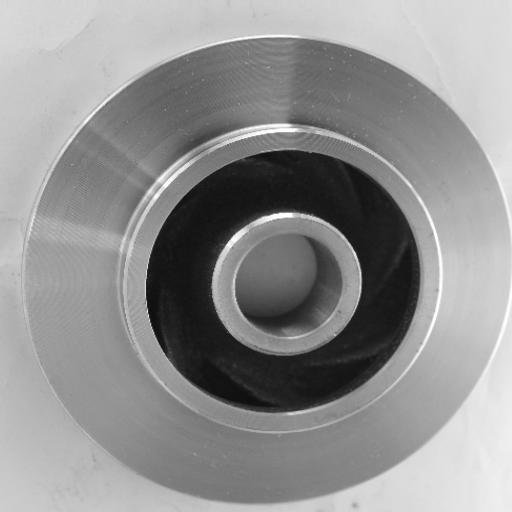polished_casting: (24, 34, 512, 505)
